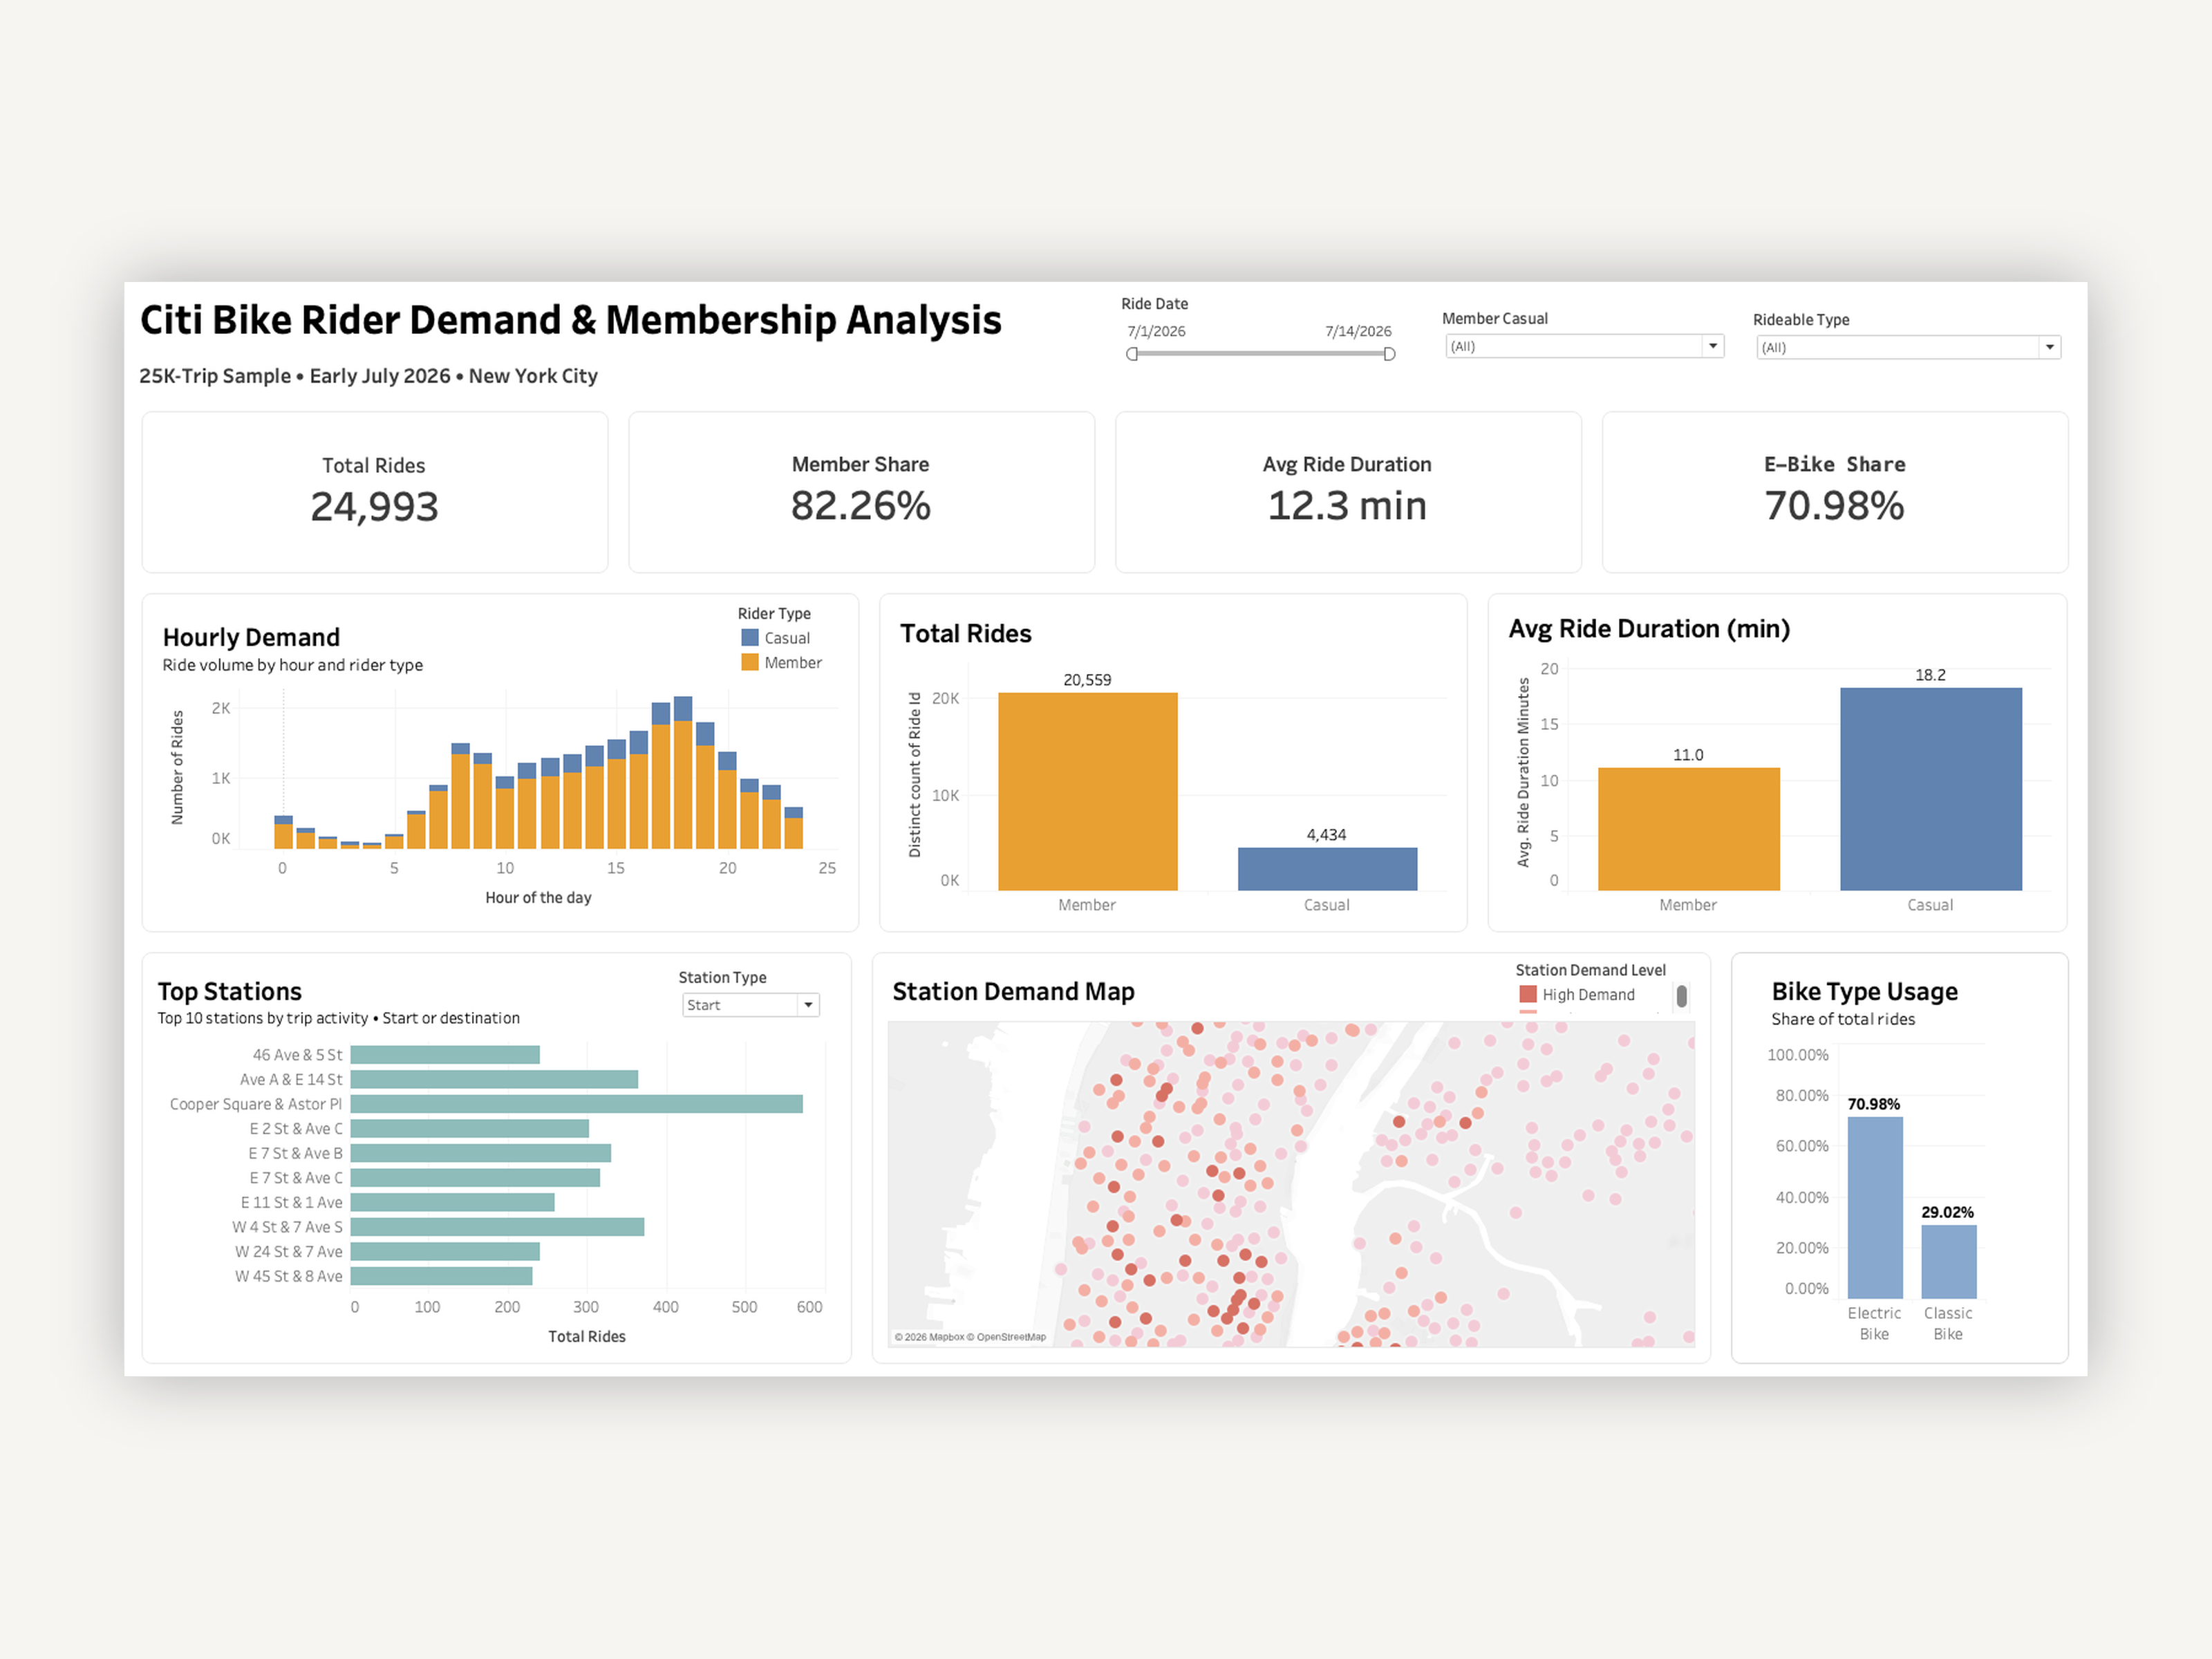

The dashboard page shown, as its layout file describes it:
{"tool":"tableau","page":{"name":"Citi Bike Demand & Rider Analysis","canvas":[1600,900],"ordinal":0},"visuals":[{"type":"text","box":[8,8,1584,50.9]},{"type":"filter","title":"Hourly Demand","param":"[federated.1kv575j05qvwha19q89by0ilde3k].[none:ride_date:qk]","box":[813,13,227,69]},{"type":"filter","title":"Hourly Demand","param":"[federated.1kv575j05qvwha19q89by0ilde3k].[none:member_casual:nk]","box":[1074,25,233,44]},{"type":"filter","title":"Hourly Demand","param":"[federated.1kv575j05qvwha19q89by0ilde3k].[none:rideable_type:nk]","box":[1327,26,254,44]},{"type":"text","box":[8,58.9,1584,42.4]},{"type":"worksheet","title":"KPI - Total Rides","mark":"Automatic","box":[8,101,396,148]},{"type":"worksheet","title":"KPI - Member Share","mark":"Automatic","box":[404,101,396,148]},{"type":"worksheet","title":"KPI - Avg Ride Duration","mark":"Automatic","box":[800,101,396,148]},{"type":"worksheet","title":"KPI - E-Bike Share","mark":"Automatic","box":[1196,101,396,148]},{"type":"worksheet","title":"Hourly Demand","mark":"Bar","rows":["ride_id"],"cols":["ride_hour"],"box":[8,249,600,292]},{"type":"worksheet","title":"Rider Type Comparison (3)","mark":"Automatic","rows":["ride_id"],"cols":["member_casual"],"box":[608,249,495.5,292]},{"type":"worksheet","title":"Rider Type Comparison (2)","mark":"Automatic","rows":["ride_duration_minutes"],"cols":["member_casual"],"box":[1103.5,249,488.5,292]},{"type":"legend","title":"Hourly Demand","param":"[federated.1kv575j05qvwha19q89by0ilde3k].[none:member_casual:nk]","box":[501,265,74,58]},{"type":"worksheet","title":"Top Start Stations","mark":"Automatic","rows":["Calculation_4478775331745797"],"cols":["ride_id"],"box":[8,541,594,351]},{"type":"worksheet","title":"Station Demand Map","mark":"Automatic","rows":["start_lat"],"cols":["start_lng"],"box":[602,541,699,351]},{"type":"worksheet","title":"Bike Type Usage","mark":"Automatic","cols":["rideable_type"],"box":[1301,541,291,351]},{"type":"legend","title":"Station Demand Map","param":"[federated.1kv575j05qvwha19q89by0ilde3k].[none:Calculation_4478775270608898:nk]","box":[1134,555,144,44]},{"type":"parameter","param":"[Parameters].[Parameter 4478775331254276]","box":[453,561,118,44]}]}

Visuals, with their boxes on the page's 1600x900 design canvas (x1, y1, x2, y2). These are canvas units, not pixel positions in the 2212x1659 screenshot, which may show the page scaled, cropped or inside an application window:
text: bbox=(8, 8, 1592, 59)
"Hourly Demand" filter: bbox=(813, 13, 1040, 82)
"Hourly Demand" filter: bbox=(1074, 25, 1307, 69)
"Hourly Demand" filter: bbox=(1327, 26, 1581, 70)
text: bbox=(8, 59, 1592, 101)
"KPI - Total Rides" worksheet: bbox=(8, 101, 404, 249)
"KPI - Member Share" worksheet: bbox=(404, 101, 800, 249)
"KPI - Avg Ride Duration" worksheet: bbox=(800, 101, 1196, 249)
"KPI - E-Bike Share" worksheet: bbox=(1196, 101, 1592, 249)
"Hourly Demand" worksheet (Bar marks): bbox=(8, 249, 608, 541)
"Rider Type Comparison (3)" worksheet: bbox=(608, 249, 1104, 541)
"Rider Type Comparison (2)" worksheet: bbox=(1104, 249, 1592, 541)
"Hourly Demand" legend: bbox=(501, 265, 575, 323)
"Top Start Stations" worksheet: bbox=(8, 541, 602, 892)
"Station Demand Map" worksheet: bbox=(602, 541, 1301, 892)
"Bike Type Usage" worksheet: bbox=(1301, 541, 1592, 892)
"Station Demand Map" legend: bbox=(1134, 555, 1278, 599)
parameter: bbox=(453, 561, 571, 605)
